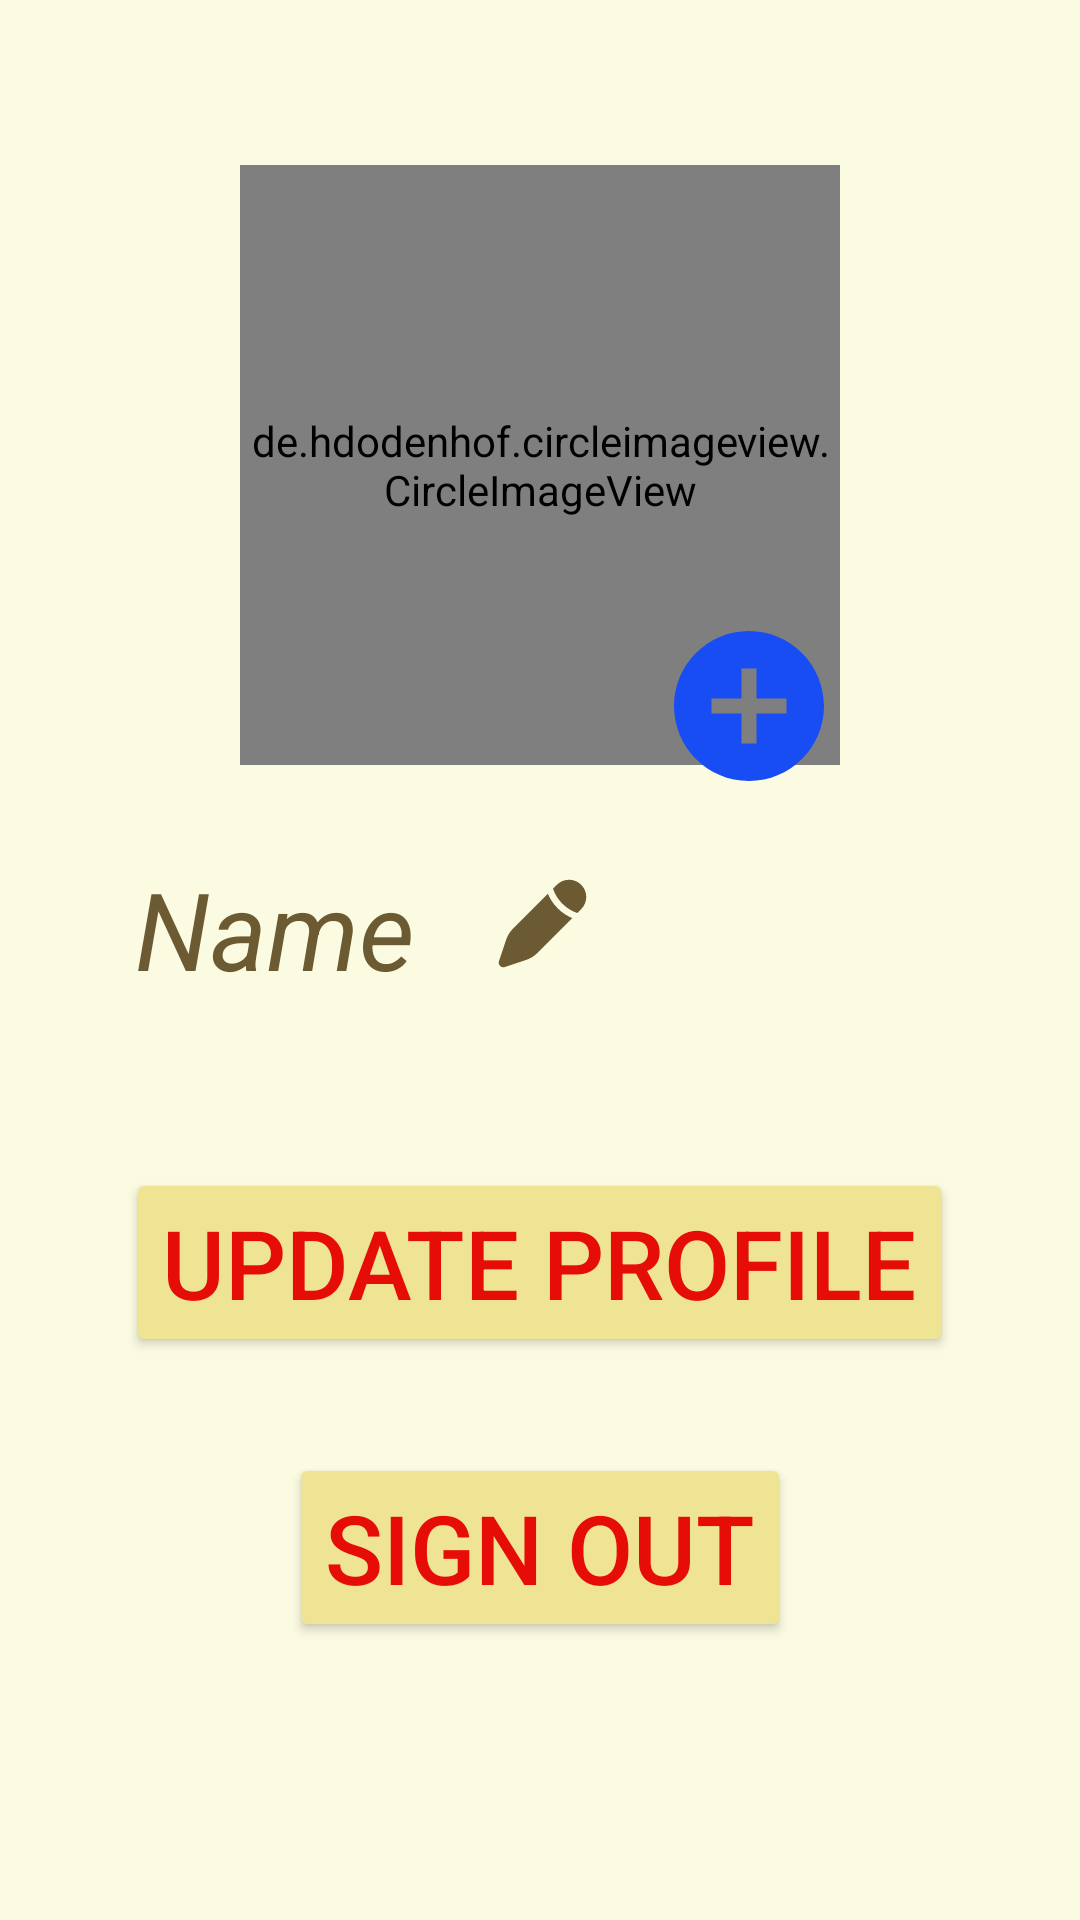

Named icons in this screenshot (1080w x 1920h) and their centers, (x=x, y=y):
add circle: (x=749, y=706)
pen: (x=542, y=923)
